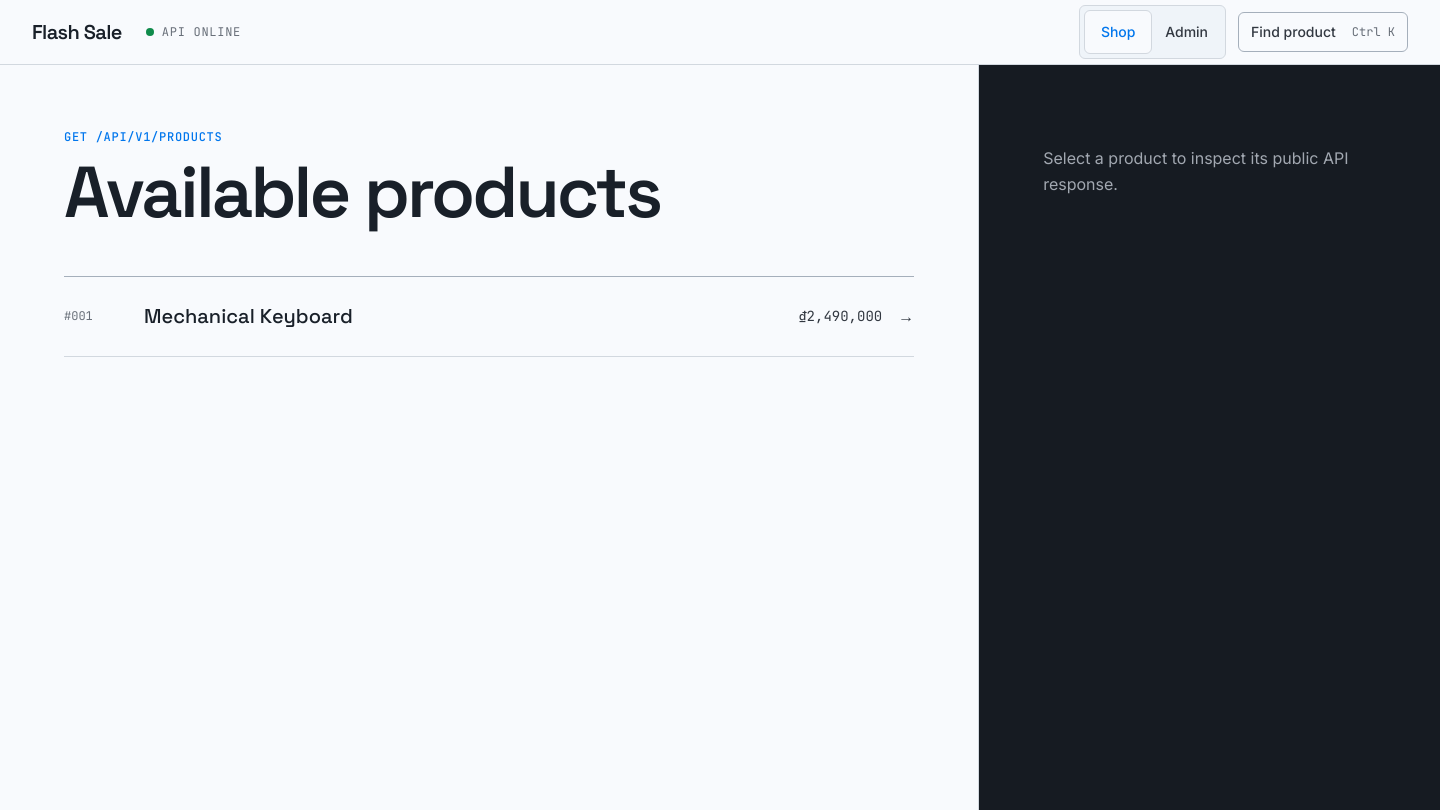
Test case: App › starts a new idempotent request when an accepted Order payload changes
The image size is (1440, 810).
Click the button "#001 Mechanical Keyboard ₫2,490,000 →". click: [248, 316]
box: [64, 276, 914, 356]
(page scrolled)
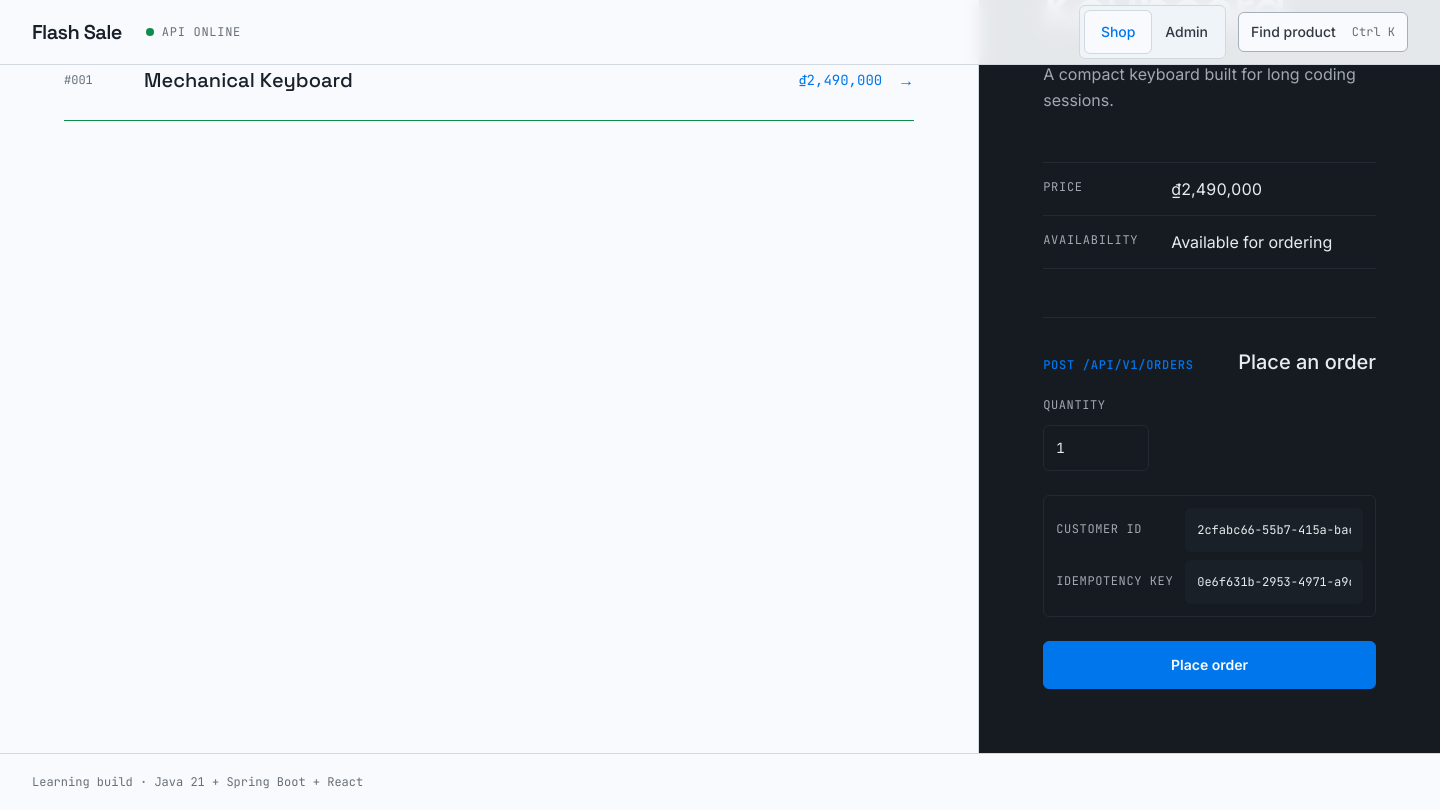
Click the button "Place order". click: [1210, 665]
box: [1043, 641, 1376, 689]
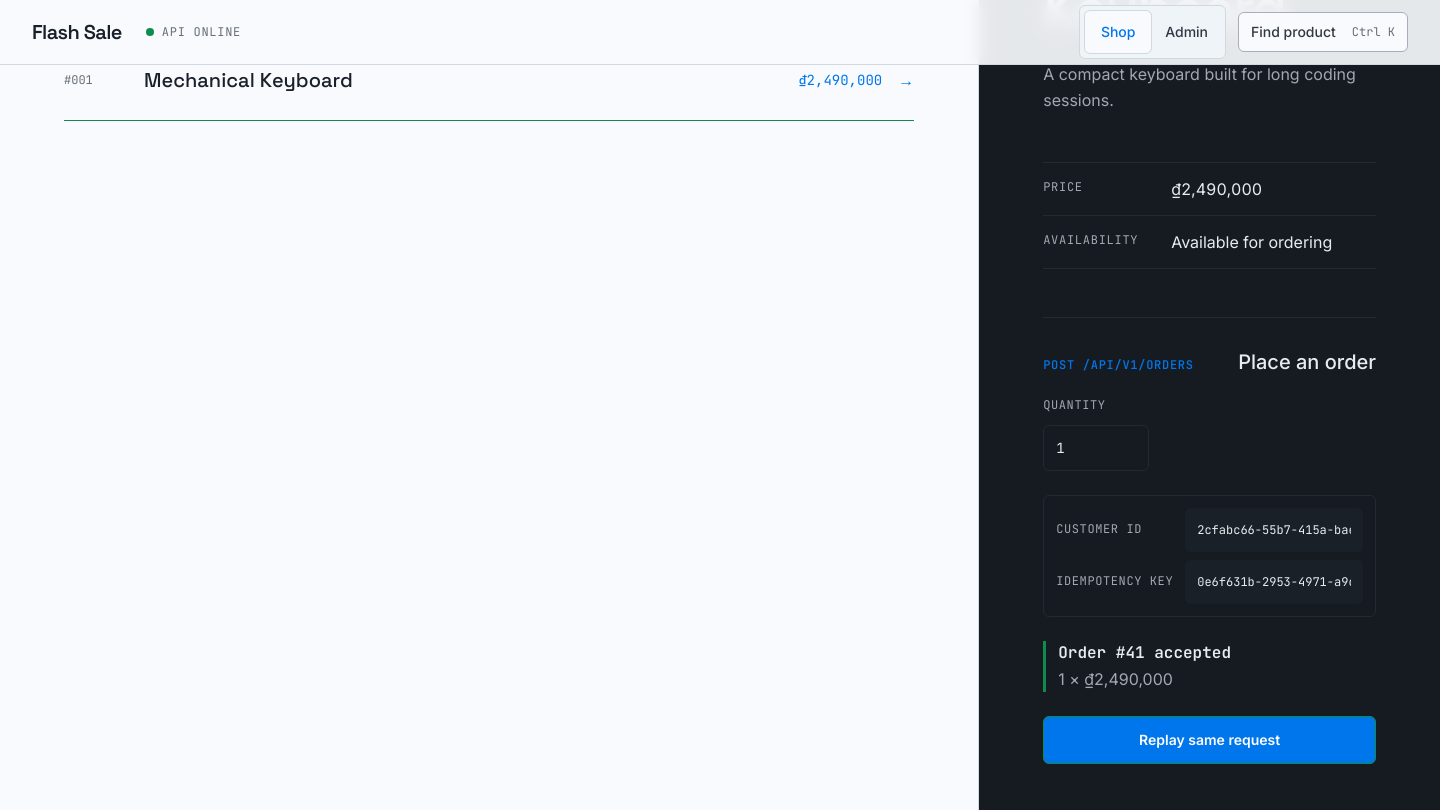
Check: the text "Order #41 accepted" is shown, box [1058, 642, 1231, 663]
Replace the text in the number field labelled "Quantity" with "2". click: [1096, 448]
box: [1043, 425, 1149, 471]
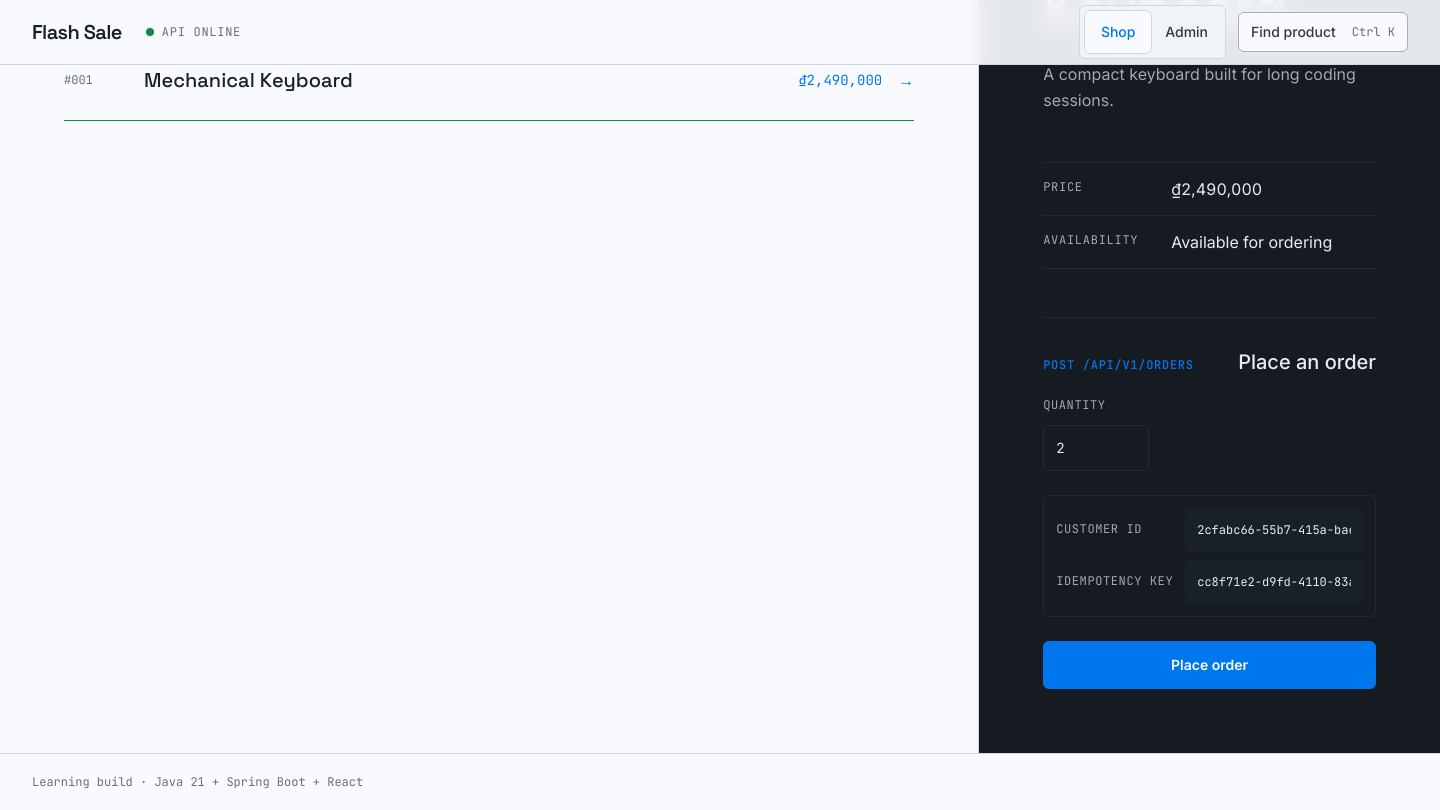
Click the button "Place order". click: [1210, 665]
box: [1043, 641, 1376, 689]
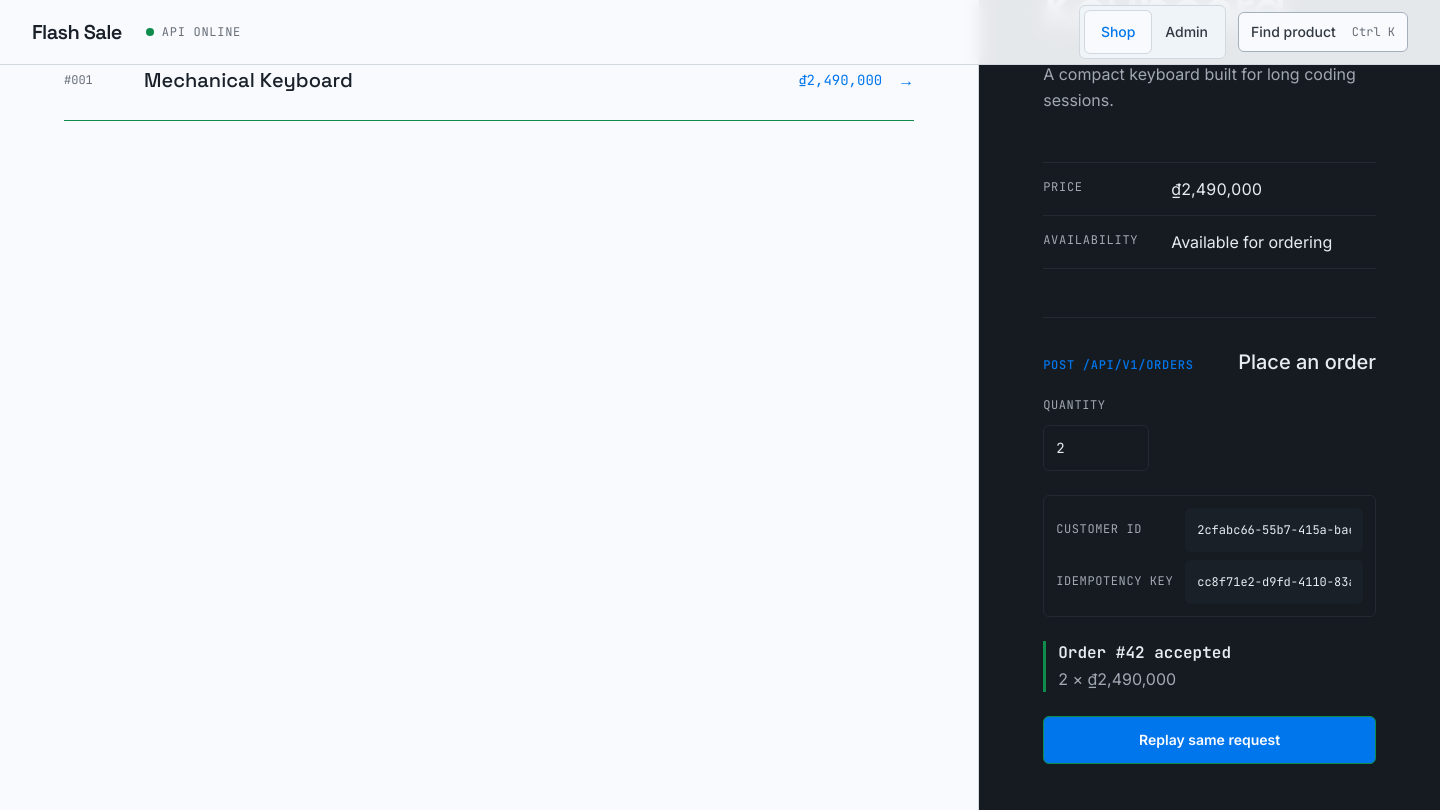
Check: the text "Order #42 accepted" is shown, box [1058, 642, 1231, 663]
